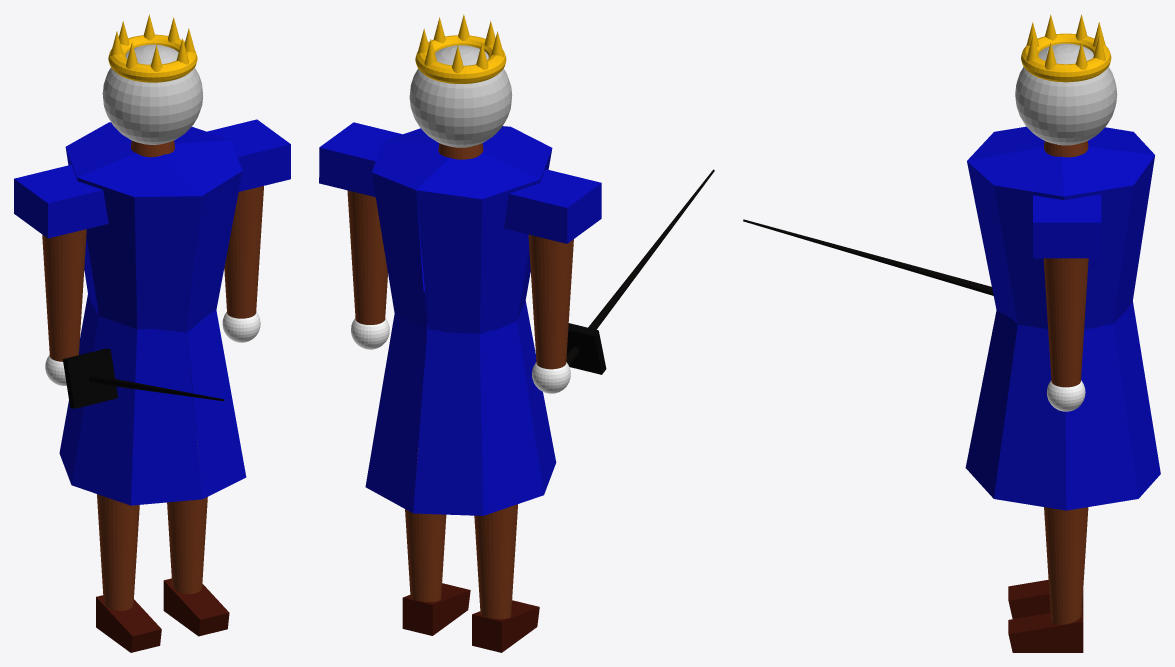
File: King.fbx
The picture shows the model from 3 angles, left to right: view 1: azimuth 30°, elevation 25°; view 2: azimuth 150°, elevation 25°; view 3: azimuth 270°, elevation 25°; orthographic projection. The views are drawn at different scales.
Parts seen in each view (by area): view 1: Cube_003, Cube, Cube_004, Sphere, Cylinder_003, Cylinder_002, Cylinder_001, Cylinder, Cube_005, Cube_001, Cube_002, Torus (+4 smaller); view 2: Cube, Cube_003, Cube_004, Sphere, Cylinder_003, Cylinder_002, Cylinder_001, Cylinder, Cube_001, Cube_002, Torus, Cube_005 (+3 smaller); view 3: Cube, Cube_003, Sphere, Cylinder_002, Cylinder, Cube_004, Cube_001, Torus, Cylinder_005, Cube_002, Sphere_002.
Part boxes in pixels (box(x1,y1,x2,y2)): Cube_003: box(65, 122, 242, 364); Cube: box(59, 253, 246, 505); Cube_004: box(14, 119, 290, 238); Sphere: box(102, 44, 202, 144); Cylinder_003: box(42, 229, 86, 361); Cylinder_002: box(224, 186, 263, 318); Cylinder_001: box(97, 494, 139, 610); Cylinder: box(167, 440, 207, 594); Cube_005: box(62, 348, 117, 408); Cube_001: box(163, 578, 229, 636); Cube_002: box(96, 595, 161, 652); Torus: box(108, 34, 197, 82); Cube: box(365, 255, 556, 515); Cube_003: box(371, 126, 552, 367); Cube_004: box(319, 122, 601, 243); Sphere: box(409, 45, 512, 147); Cylinder_003: box(528, 234, 573, 369); Cylinder_002: box(347, 190, 387, 324); Cylinder_001: box(474, 504, 517, 619); Cylinder: box(405, 448, 446, 601); Cube_001: box(402, 583, 470, 635); Cube_002: box(472, 600, 539, 652); Torus: box(415, 35, 506, 83); Cube_005: box(566, 323, 606, 374); Cube: box(965, 301, 1160, 510); Cube_003: box(967, 126, 1154, 329); Sphere: box(1015, 43, 1117, 145); Cylinder_002: box(1043, 258, 1088, 387); Cylinder: box(1044, 507, 1088, 624); Cube_004: box(1033, 194, 1101, 258); Cube_001: box(1008, 607, 1083, 652); Torus: box(1021, 33, 1111, 82); Cylinder_005: box(743, 219, 993, 295); Cube_002: box(1008, 579, 1083, 618); Sphere_002: box(1047, 380, 1085, 411).
Size of the model in its own units: 228 by 530 by 334.
